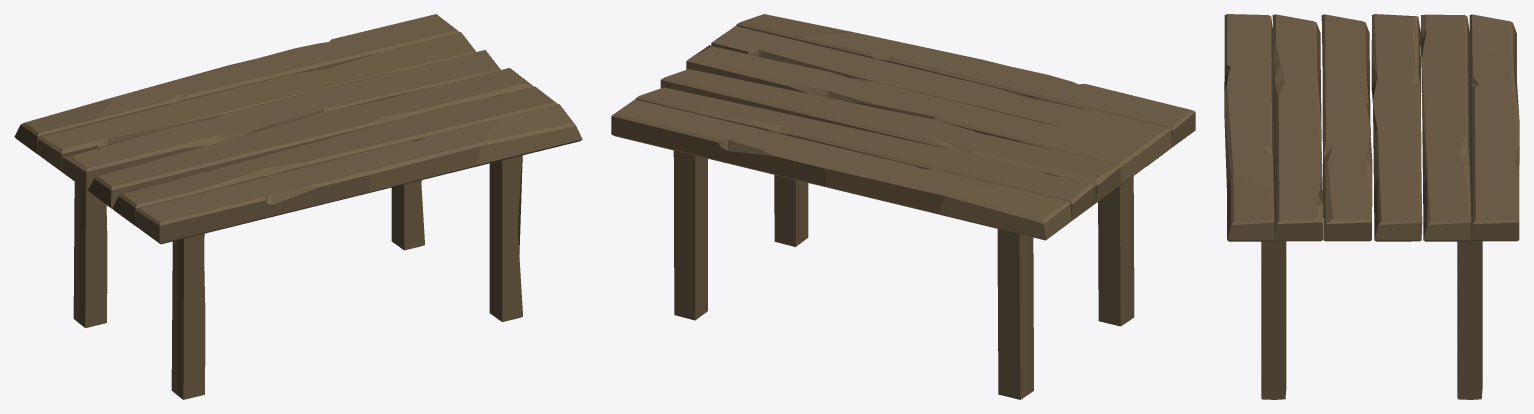
The model's file is greek_table_1.fbx.
The picture shows the model from 3 angles, left to right: view 1: azimuth 30°, elevation 25°; view 2: azimuth 150°, elevation 25°; view 3: azimuth 270°, elevation 25°; orthographic projection. The views are drawn at different scales.
Parts seen in each view (by area): view 1: Cube.075; view 2: Cube.075; view 3: Cube.075.
Boxes of the visible parts, x1,y1,x2,y2 form: Cube.075: (14, 14, 582, 399); Cube.075: (611, 14, 1195, 399); Cube.075: (1224, 14, 1519, 399).
Bounding box in the file's own units: 201 × 90 × 120.
